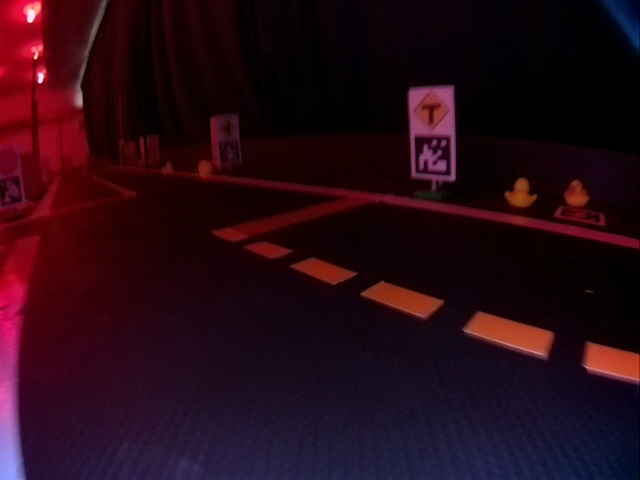Duckie: (505, 178, 537, 205), (564, 181, 590, 206)
Intersection sign: (415, 91, 451, 130), (216, 115, 237, 136)
QR code: (413, 135, 452, 175), (554, 206, 606, 225), (220, 140, 241, 164)
